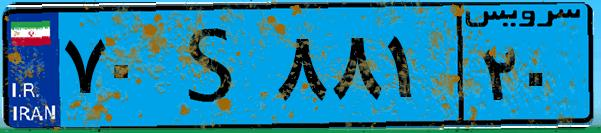0: (525, 38, 570, 115), (110, 28, 158, 98)
1: (385, 28, 445, 110)
2: (475, 38, 525, 113)
7: (57, 26, 110, 100)
8: (270, 28, 330, 110), (330, 28, 385, 110)
S: (158, 12, 270, 120)
